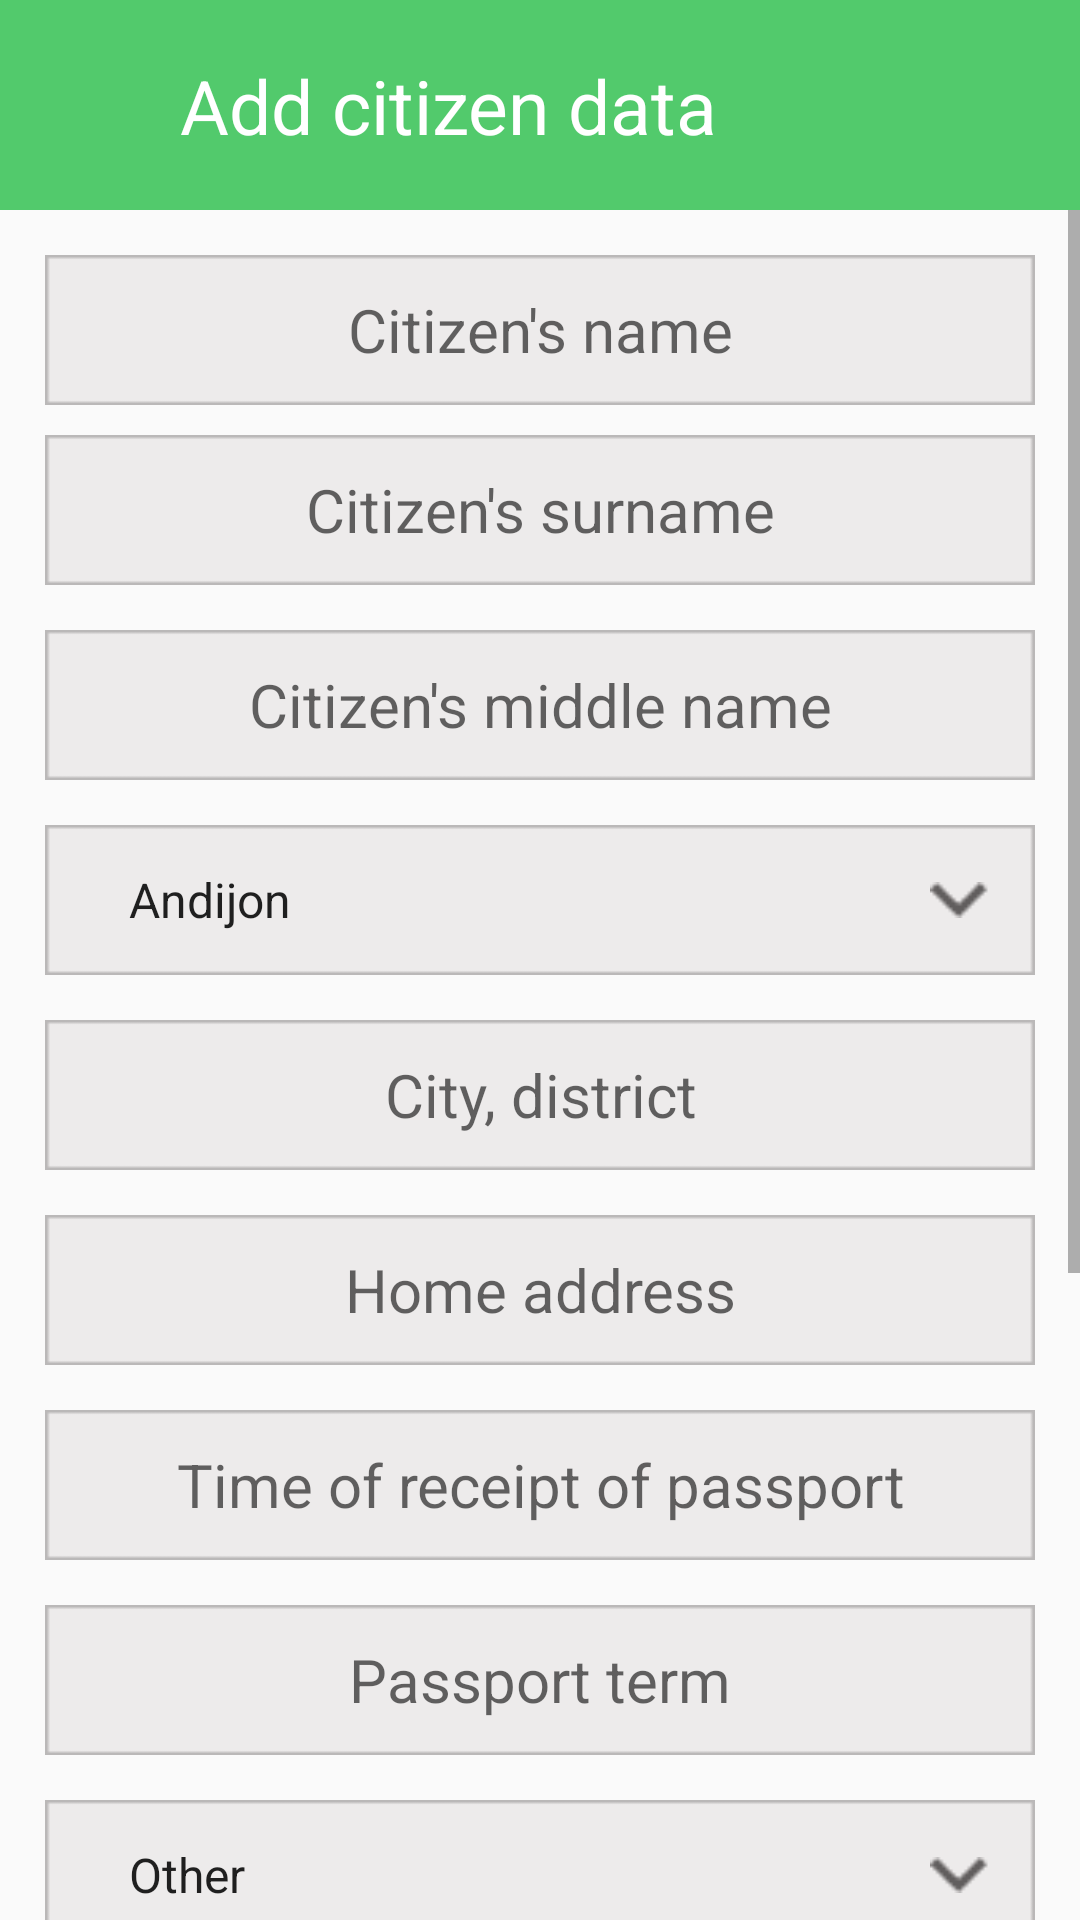

Named icons in this screenshot (1080 x 1920) and their bounding boxes, (x1, y1, x2, y2):
bottom: (930, 882, 987, 918), (930, 1857, 987, 1893)
